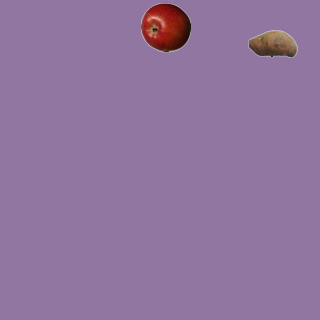Apple Braeburn: (140, 2, 190, 52)
Potato Sweet: (247, 18, 297, 68)
